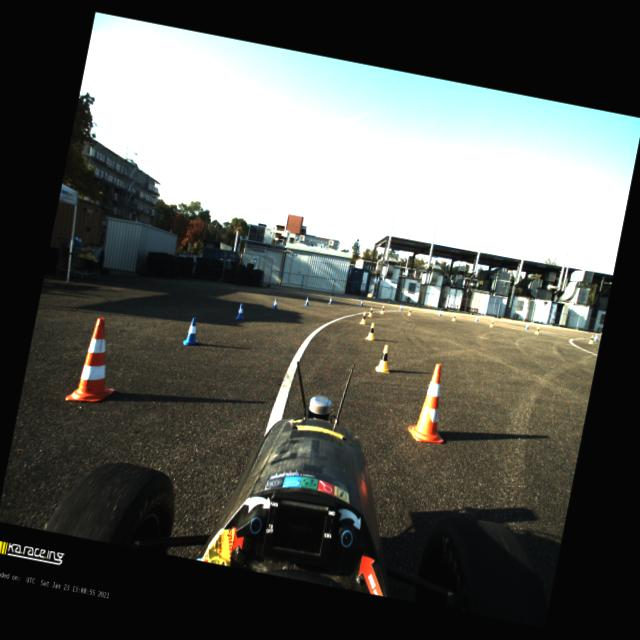blue_cone: (182, 316, 204, 348), (234, 302, 247, 321), (272, 298, 280, 310), (304, 296, 310, 306), (524, 322, 530, 330), (328, 296, 333, 305), (594, 333, 598, 342), (359, 299, 364, 306), (438, 310, 443, 316), (475, 315, 479, 322), (399, 304, 403, 310)
large_orange_cone: (65, 314, 128, 408), (406, 360, 458, 446)
yellow_cone: (374, 344, 394, 374), (364, 322, 378, 341), (358, 311, 366, 325), (368, 306, 374, 318), (588, 335, 595, 345), (534, 325, 540, 335), (488, 318, 494, 328), (380, 305, 386, 315), (452, 312, 456, 322), (408, 308, 412, 316)
